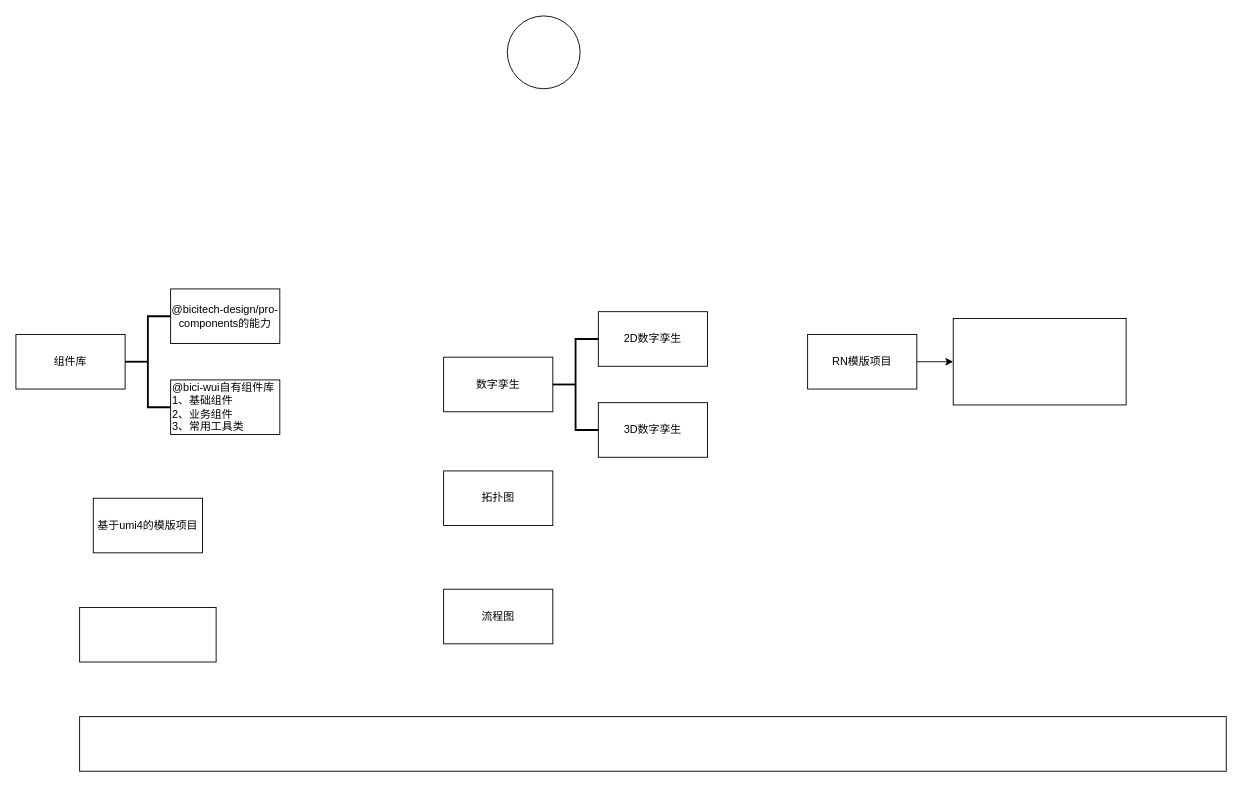
The diagram is 1242 pixels wide and 787 high, and some of its shapes have lost their labels. The shapes that lost their labels are listed below. From the top down, each one's centre as x and y in pixels, then its label:
At point (1039, 361): "1、日历组件 2、时间选择组件 3、拍照组件 4、二维码扫码组件 5、驾驶舱看板预览组件 6、Modal弹窗（侧滑和向上）".
At point (147, 634): "构建web端的bici-cli工具 1、普通项目工程 2、基于微前端的基座项目 3、基于微前端的子项目".
At point (652, 743): "埋点系统".
